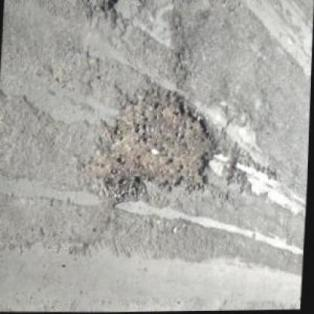Hueco: (88, 86, 221, 205)
